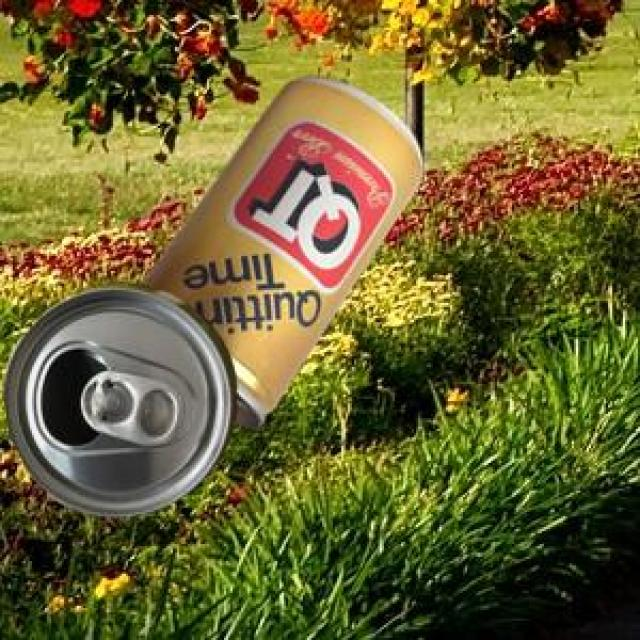logam: (138, 76, 419, 426), (1, 281, 234, 513)
